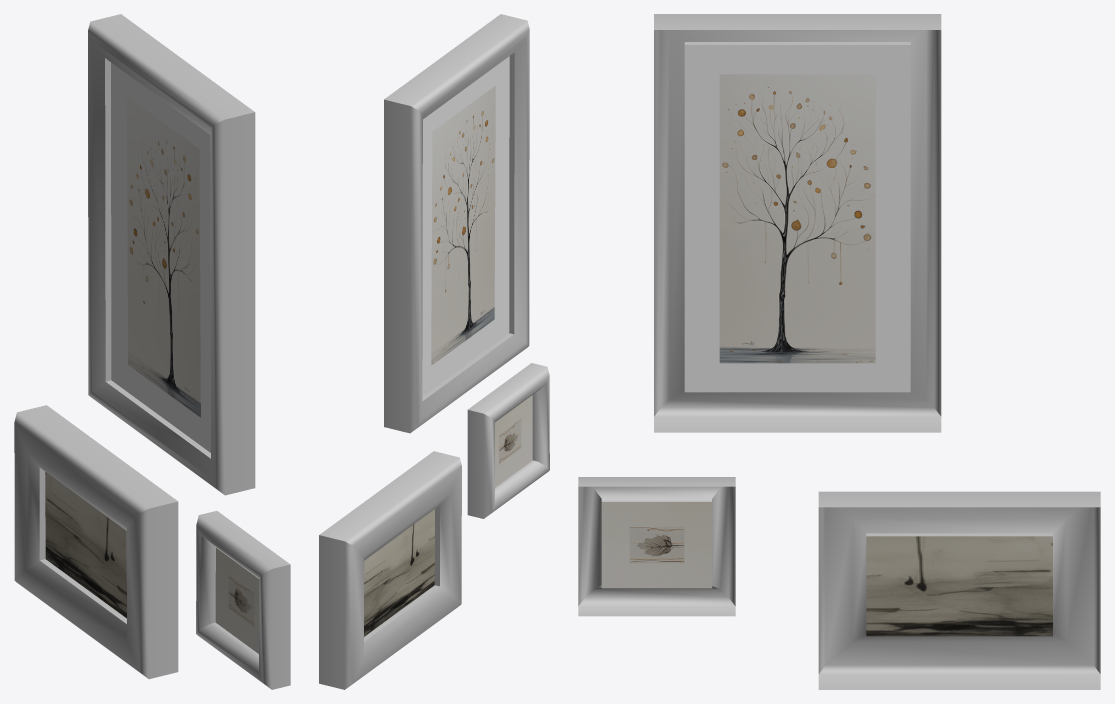
The model's file is Picture_Assembly_2.fbx.
The picture shows the model from 3 angles, left to right: view 1: azimuth 30°, elevation 25°; view 2: azimuth 150°, elevation 25°; view 3: azimuth 270°, elevation 25°; orthographic projection. The views are drawn at different scales.
Visible parts, largest first — view 1: Picture_Assembly_2; view 2: Picture_Assembly_2; view 3: Picture_Assembly_2.
Part boxes in pixels (x1=…): Picture_Assembly_2: x1=14, y1=14, x2=290, y2=689; Picture_Assembly_2: x1=319, y1=14, x2=549, y2=689; Picture_Assembly_2: x1=578, y1=14, x2=1100, y2=689.
Size of the model in its own units: 2.79 by 44.93 by 32.23.
